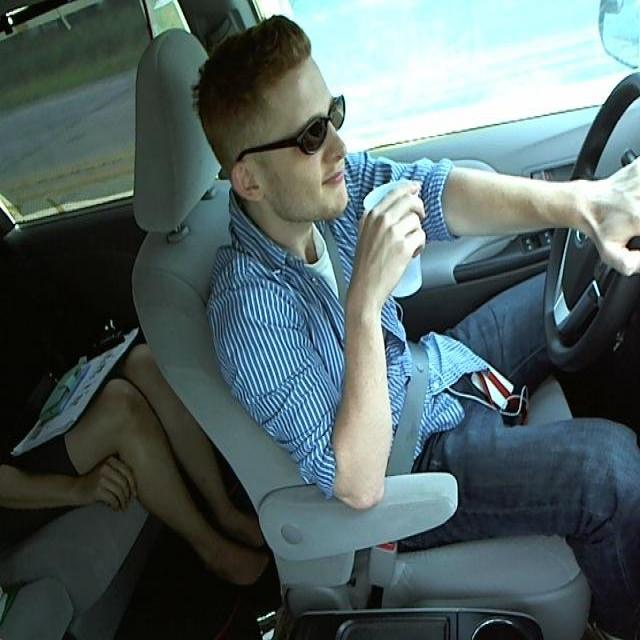drinking: (361, 173, 425, 300)
